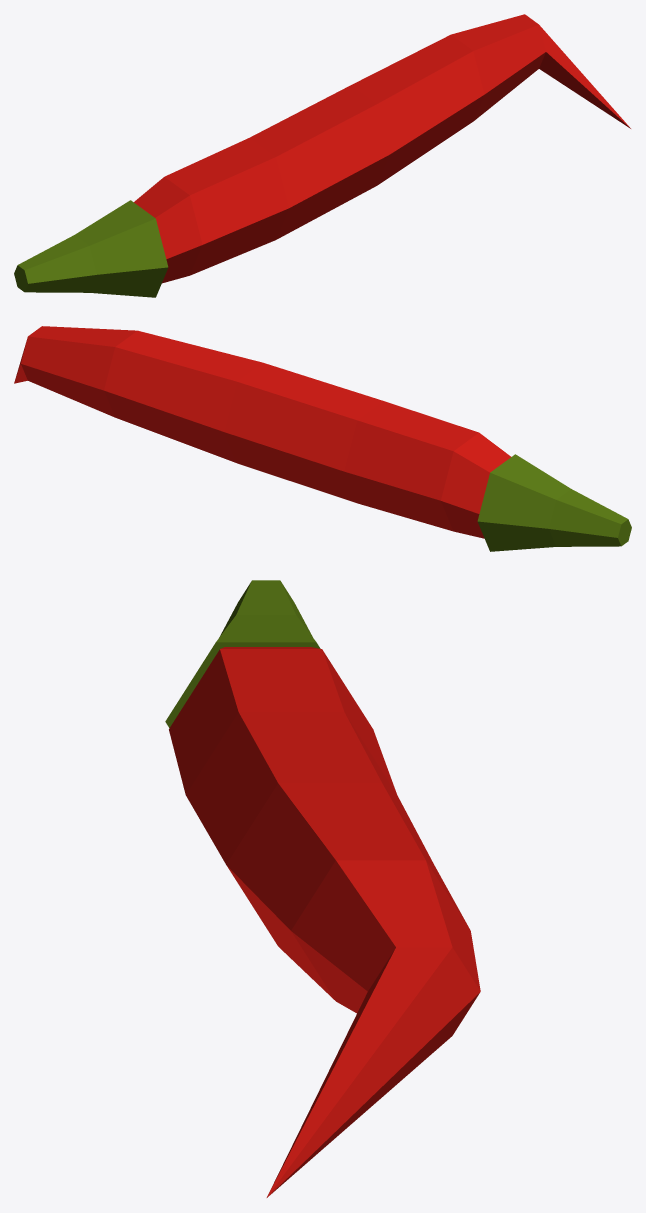
Rendered from SM_Cook_Chili_01.fbx.
The picture shows the model from 3 angles, top to bottom: view 1: azimuth 30°, elevation 25°; view 2: azimuth 150°, elevation 25°; view 3: azimuth 270°, elevation 25°; orthographic projection. The views are drawn at different scales.
Visible parts, largest first — view 1: SM_Cook_Chili_01; view 2: SM_Cook_Chili_01; view 3: SM_Cook_Chili_01.
Boxes of the visible parts, x1,y1,x2,y2 form: SM_Cook_Chili_01: (14, 14, 630, 297); SM_Cook_Chili_01: (14, 326, 631, 551); SM_Cook_Chili_01: (165, 580, 480, 1197).
Bounding box in the file's own units: 0.08 × 0.0175 × 0.0179.
Materials: 1 (1 with a texture image).
